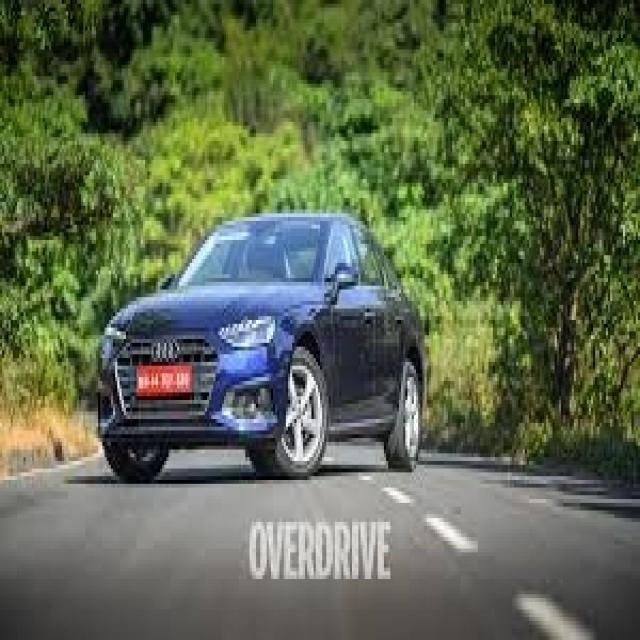blue: (96, 192, 434, 493)
